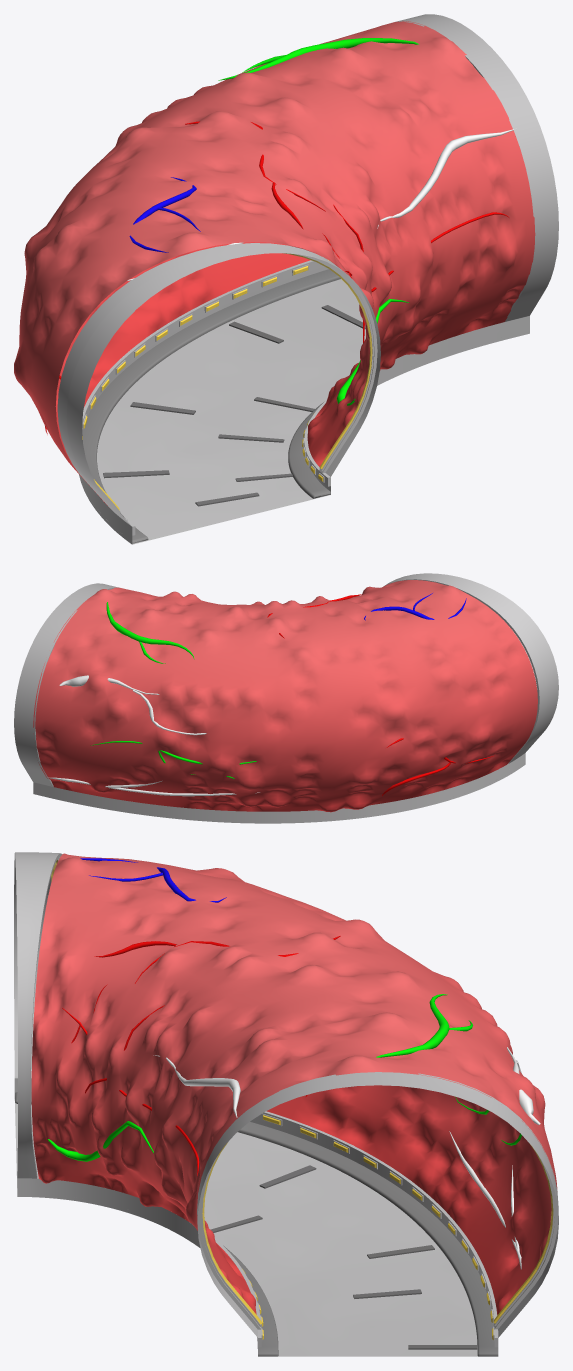
The model's file is Terowongan_2_Kiri.fbx.
3 renders of one model, top to bottom at view 1: azimuth 30°, elevation 25°; view 2: azimuth 150°, elevation 25°; view 3: azimuth 270°, elevation 25°, orthographic. The views are drawn at different scales.
Parts seen in each view (by area): view 1: Terowongan 2_Kiri; view 2: Terowongan 2_Kiri; view 3: Terowongan 2_Kiri.
Boxes of the visible parts, x1=… form: Terowongan 2_Kiri: x1=14, y1=14, x2=558, y2=544; Terowongan 2_Kiri: x1=14, y1=573, x2=558, y2=823; Terowongan 2_Kiri: x1=14, y1=852, x2=558, y2=1356.
Bounding box in the file's own units: 989 × 450 × 794.
4 materials, 4 textured.
